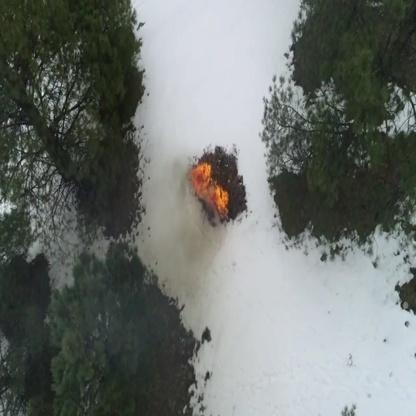Fire: (193, 164, 212, 192), (212, 190, 230, 218), (200, 191, 214, 205), (211, 182, 222, 193)
